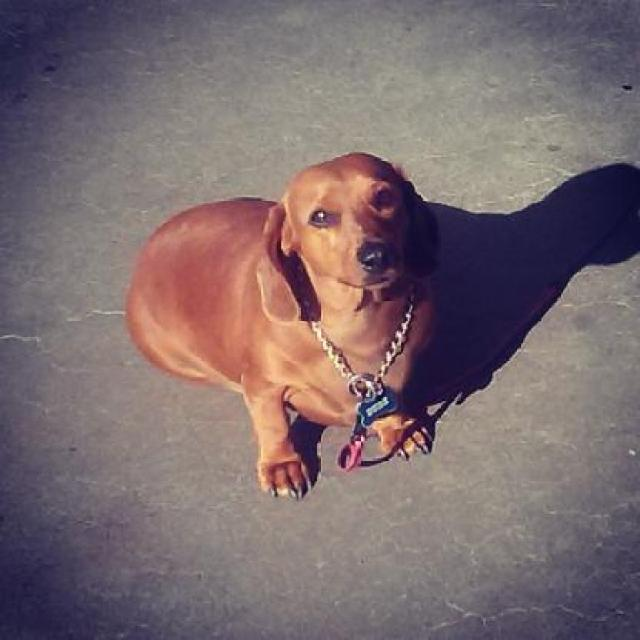Dog: (123, 146, 445, 503)
